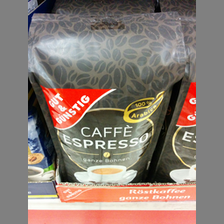coffee: (29, 12, 186, 182)
